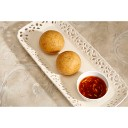bonda: (54, 52, 84, 74), (41, 30, 66, 55)
